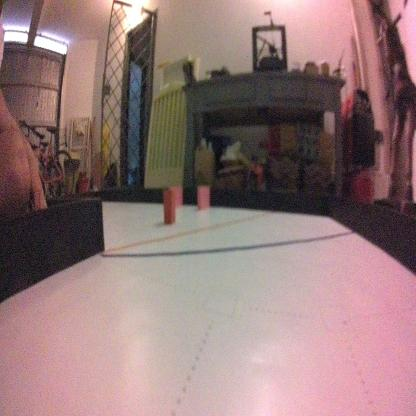magenta: (168, 183, 182, 211), (196, 184, 207, 213)
red: (161, 184, 175, 225)
